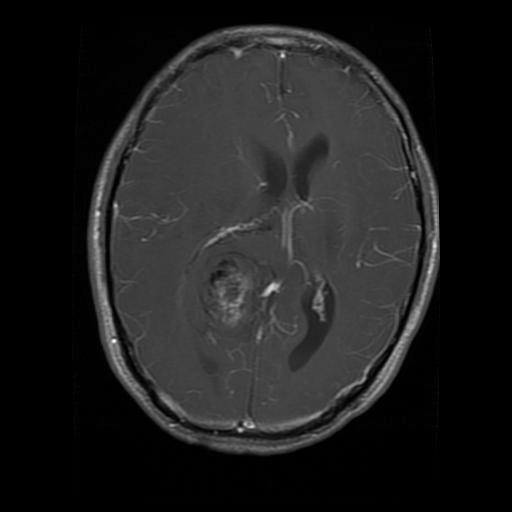Tumour-Glioma: (195, 251, 268, 328)
